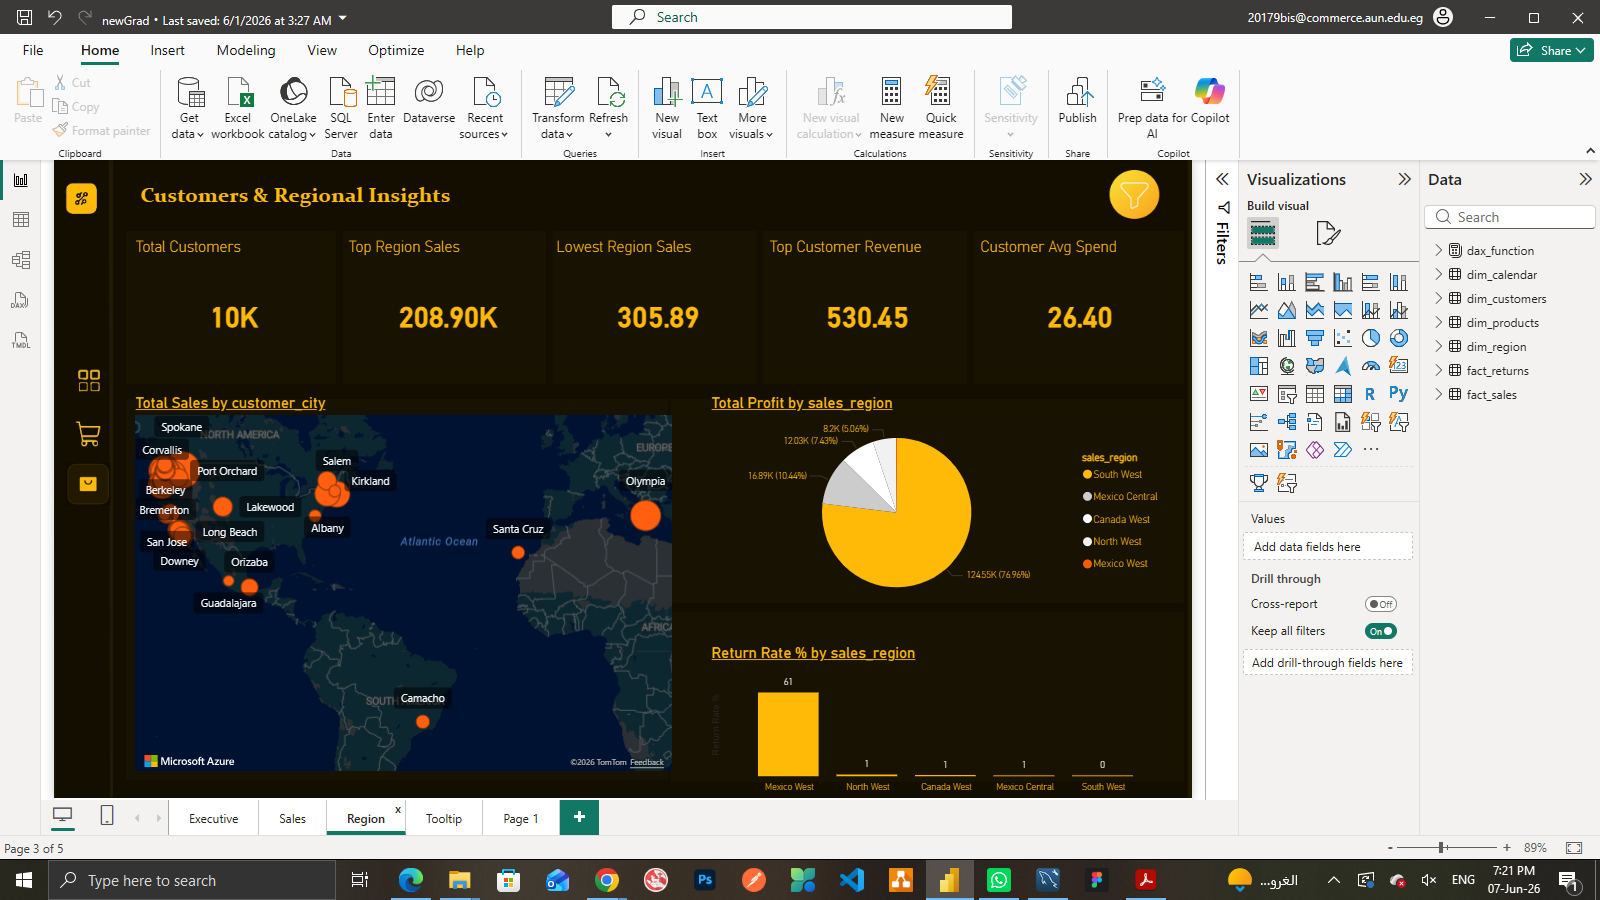

Layout of this report page (visuals, bound fields, positions):
{"tool":"powerbi","page":{"name":"Region","canvas":[1280,720],"ordinal":2},"visuals":[{"type":"card","title":"Customer Avg Spend","fields":{"Values":["dax_function.Customer Average Spend"]},"box":[1037.1,86.1,233.9,160.6],"z":0},{"type":"card","title":"Top Region Sales","fields":{"Values":["dax_function.Top Region Sales"]},"box":[326.4,86.1,233.9,160.6],"z":1000},{"type":"card","title":"Total Customers","fields":{"Values":["dax_function.Total Customers"]},"box":[86.1,86.1,231.3,160.6],"z":2000},{"type":"card","title":"Lowest Region Sales","fields":{"Values":["dax_function.Lowest Region Sales"]},"box":[560.3,86.1,239,160.6],"z":3000},{"type":"card","title":"Top Customer Revenue","fields":{"Values":["dax_function.Top Customer Revenue"]},"box":[799.4,86.1,230,160.6],"z":4000},{"type":"image","box":[6.4,215.9,69.4,72],"z":5000},{"type":"image","box":[0,272.4,69.4,70.7],"z":6000},{"type":"image","box":[13.5,338.6,49.5,51.8],"z":7000},{"type":"image","box":[9,0,51.4,87.4],"z":8000},{"type":"azureMap","fields":{"Category":["dim_customers.customer_city"],"Size":["dax_function.Total Sales"]},"box":[86.1,263.5,614.3,429.2],"z":9000},{"type":"pieChart","fields":{"Category":["dim_region.sales_region"],"Y":["dax_function.Total Profit"]},"box":[735.1,263.5,521.8,248],"z":10000},{"type":"columnChart","fields":{"Category":["dim_region.sales_region"],"Y":["dax_function.Return Rate %"]},"box":[735.1,544.9,521.8,174.8],"z":11000},{"type":"textbox","box":[92.5,19.3,393.3,47.6],"z":12000},{"type":"image","box":[1174.6,11.6,82.2,55.3],"z":13000}]}

Visuals, with their boxes on the page's 1280x720 design canvas (x1, y1, x2, y2). These are canvas units, not pixel positions in the 1600x900 screenshot, which may show the page scaled, cropped or inside an application window:
"Customer Avg Spend" card: BBox(1037, 86, 1271, 247)
"Top Region Sales" card: BBox(326, 86, 560, 247)
"Total Customers" card: BBox(86, 86, 317, 247)
"Lowest Region Sales" card: BBox(560, 86, 799, 247)
"Top Customer Revenue" card: BBox(799, 86, 1029, 247)
image: BBox(6, 216, 76, 288)
image: BBox(0, 272, 69, 343)
image: BBox(14, 339, 63, 390)
image: BBox(9, 0, 60, 87)
azureMap - dim_customers.customer_city x dax_function.Total Sales: BBox(86, 264, 700, 693)
pieChart - dim_region.sales_region x dax_function.Total Profit: BBox(735, 264, 1257, 512)
columnChart - dim_region.sales_region x dax_function.Return Rate %: BBox(735, 545, 1257, 720)
textbox: BBox(92, 19, 486, 67)
image: BBox(1175, 12, 1257, 67)
